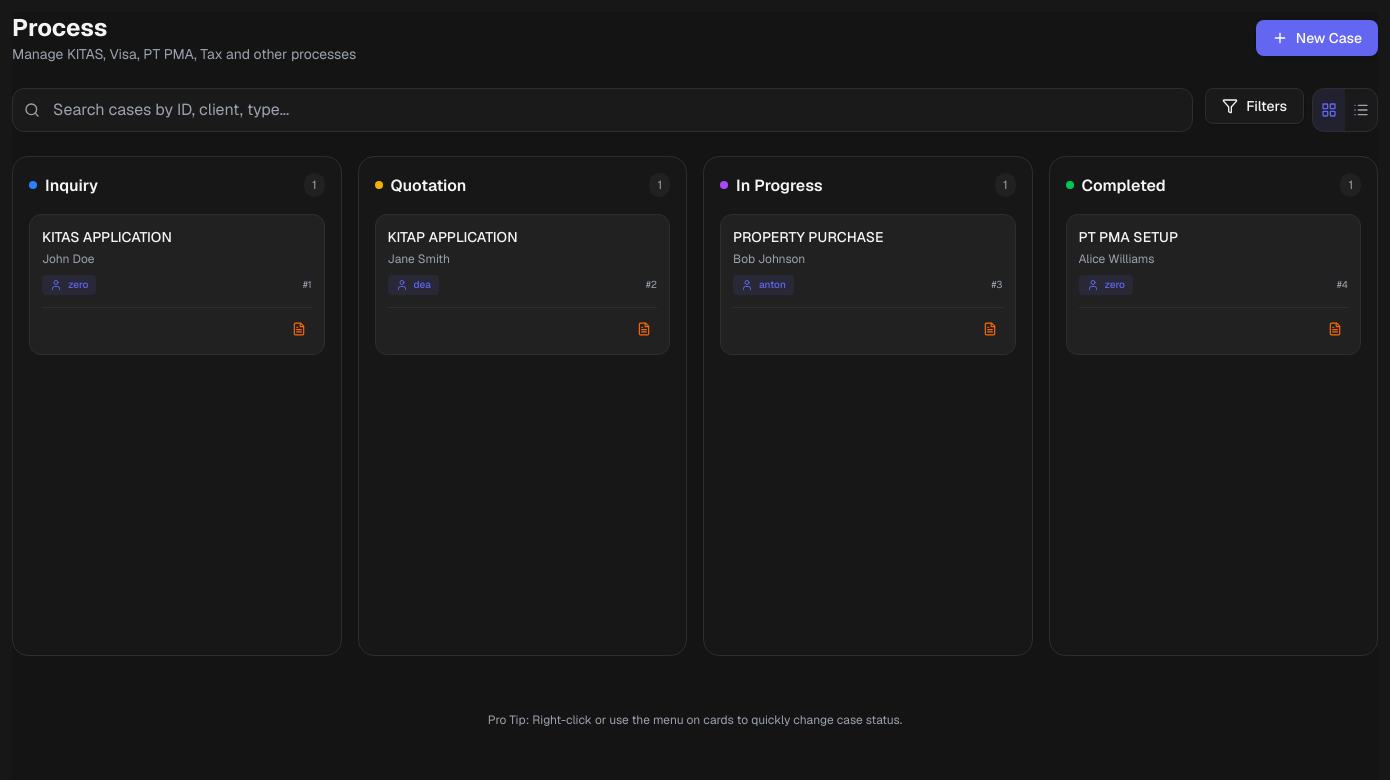
Test: Cases Page › Filter Functionality › should clear filters when Clear button clicked
Expected: the text "John Doe" is shown, [42,251,94,267]
// Apply filter
Click the button "Filters". click: click(1255, 106)
box: [1205,88,1304,124]
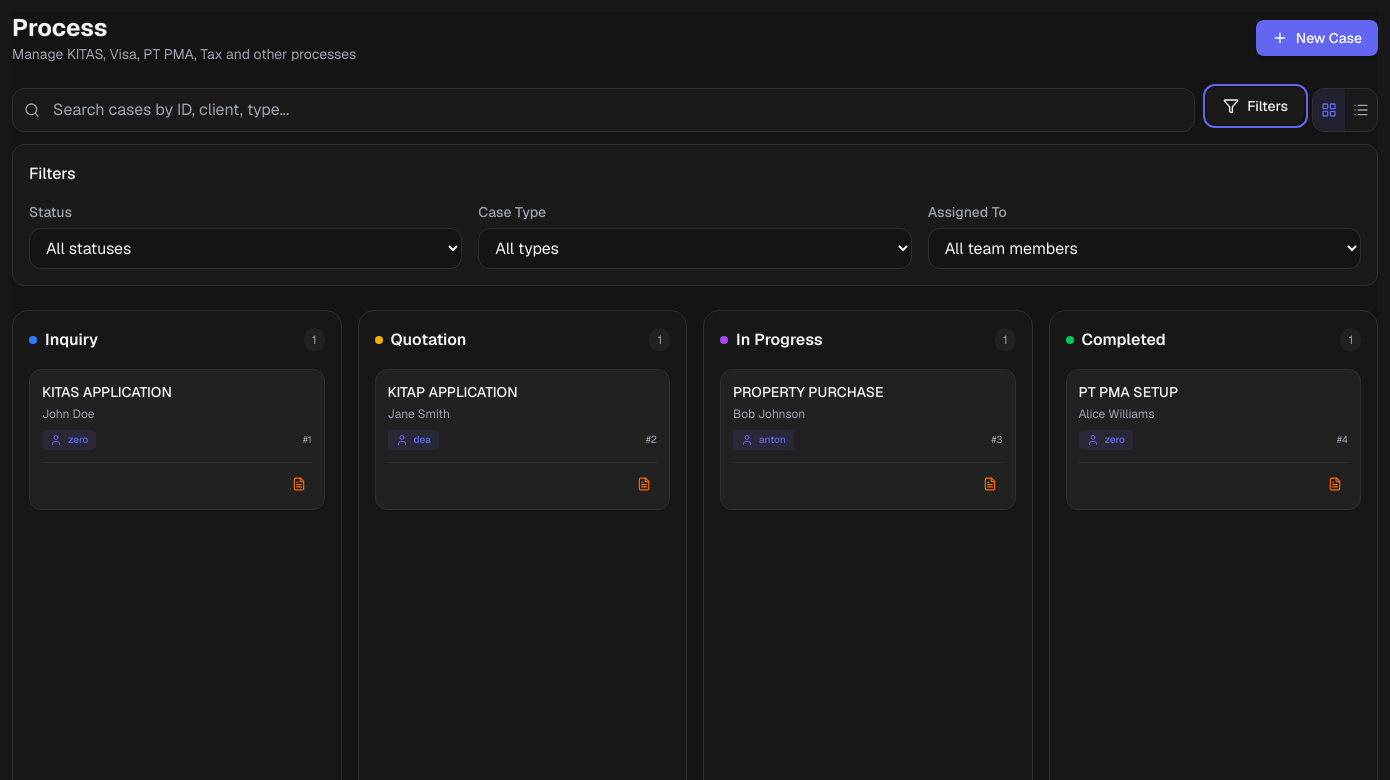
Select "Completed" in the dropdown labelled "Status". click: (246, 249)
box: [29,228,462,269]
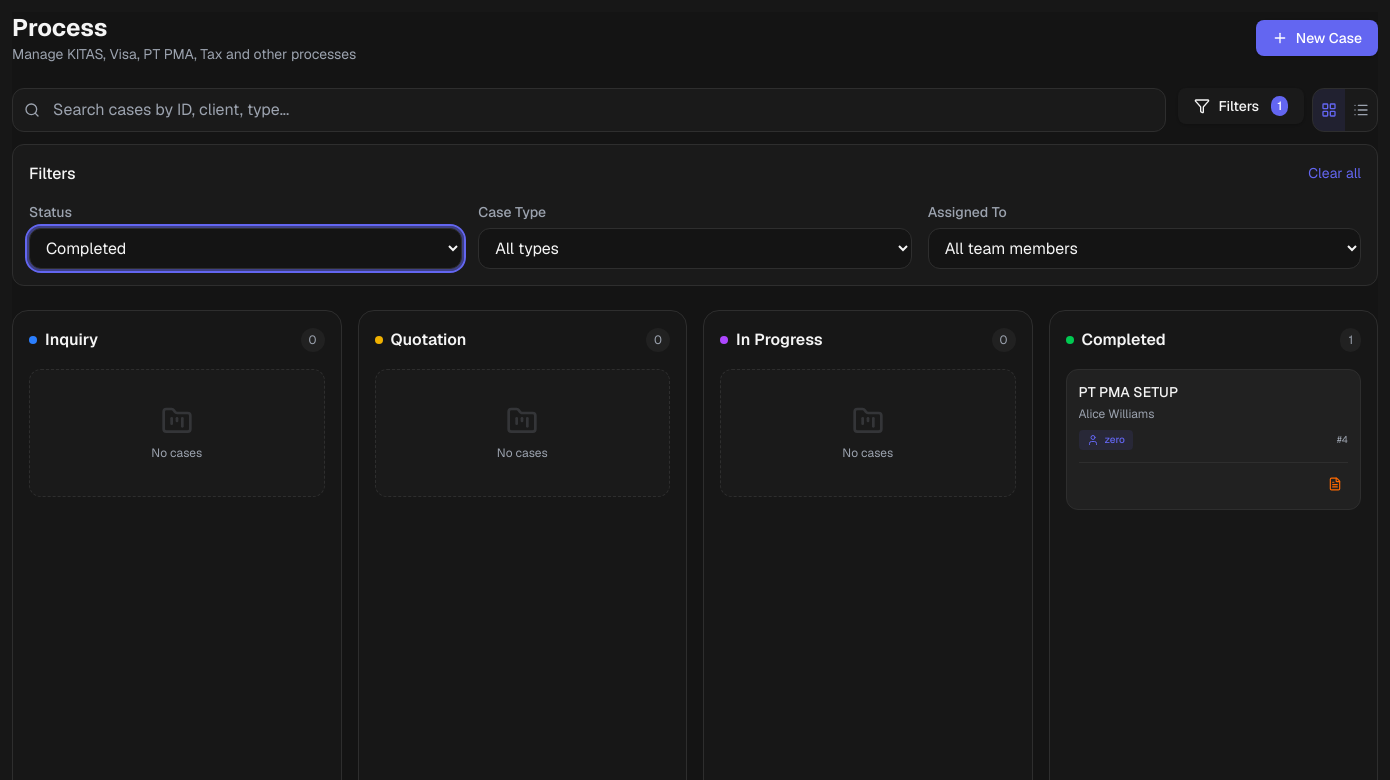
// Clear filters
Click the button "Clear all". click: click(1335, 173)
box: [1308,163,1361,183]
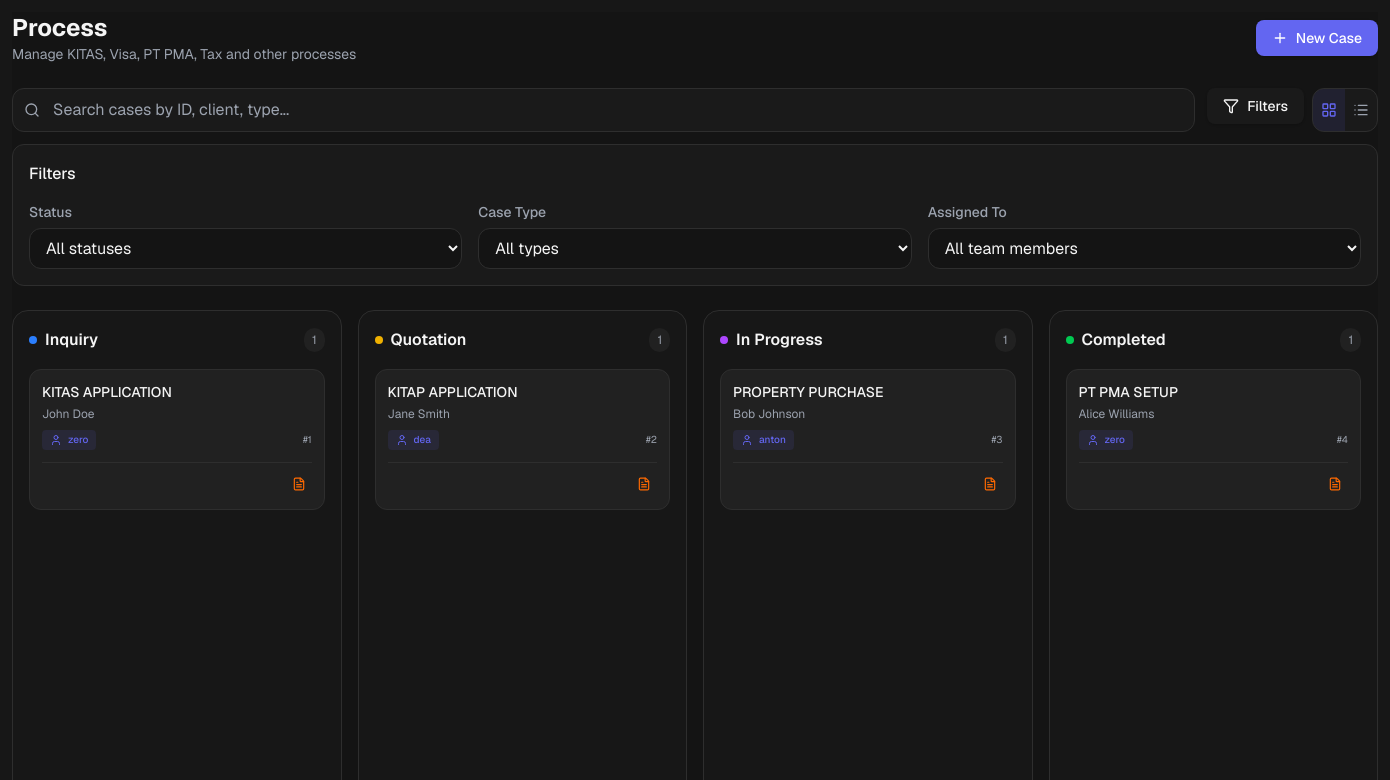
Now the text "John Doe" is shown, box [42,406,94,422]
Now the text "Jane Smith" is shown, box [388,406,450,422]
